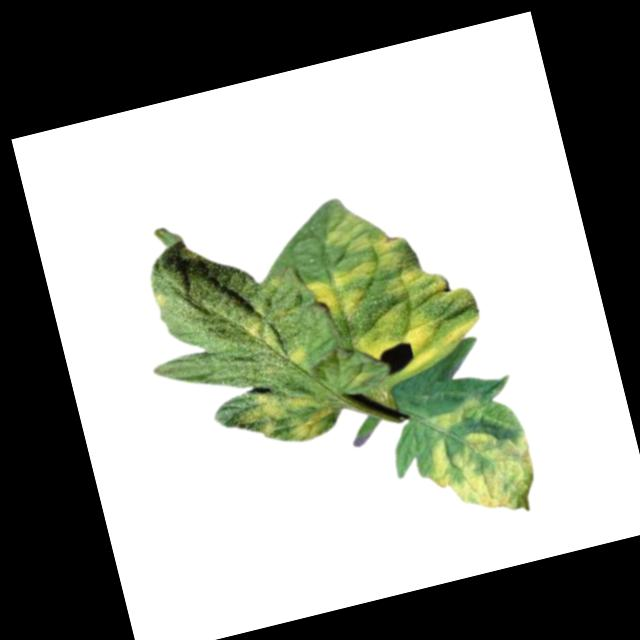Leaf_Mold: (407, 384, 545, 532), (341, 255, 492, 383), (229, 377, 337, 457), (236, 288, 316, 375), (318, 197, 413, 268), (300, 256, 387, 328)
